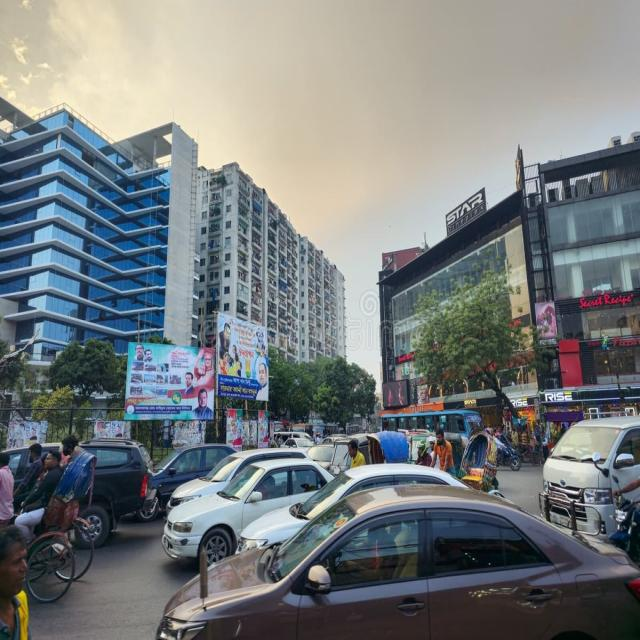Bus: (343, 386, 535, 495)
Car: (111, 471, 640, 640), (232, 443, 514, 585), (143, 438, 391, 569), (150, 426, 379, 536), (1, 417, 175, 552), (129, 424, 346, 524)
Micro-Bus: (518, 381, 640, 551)
Rickshaw: (1, 414, 118, 612)
